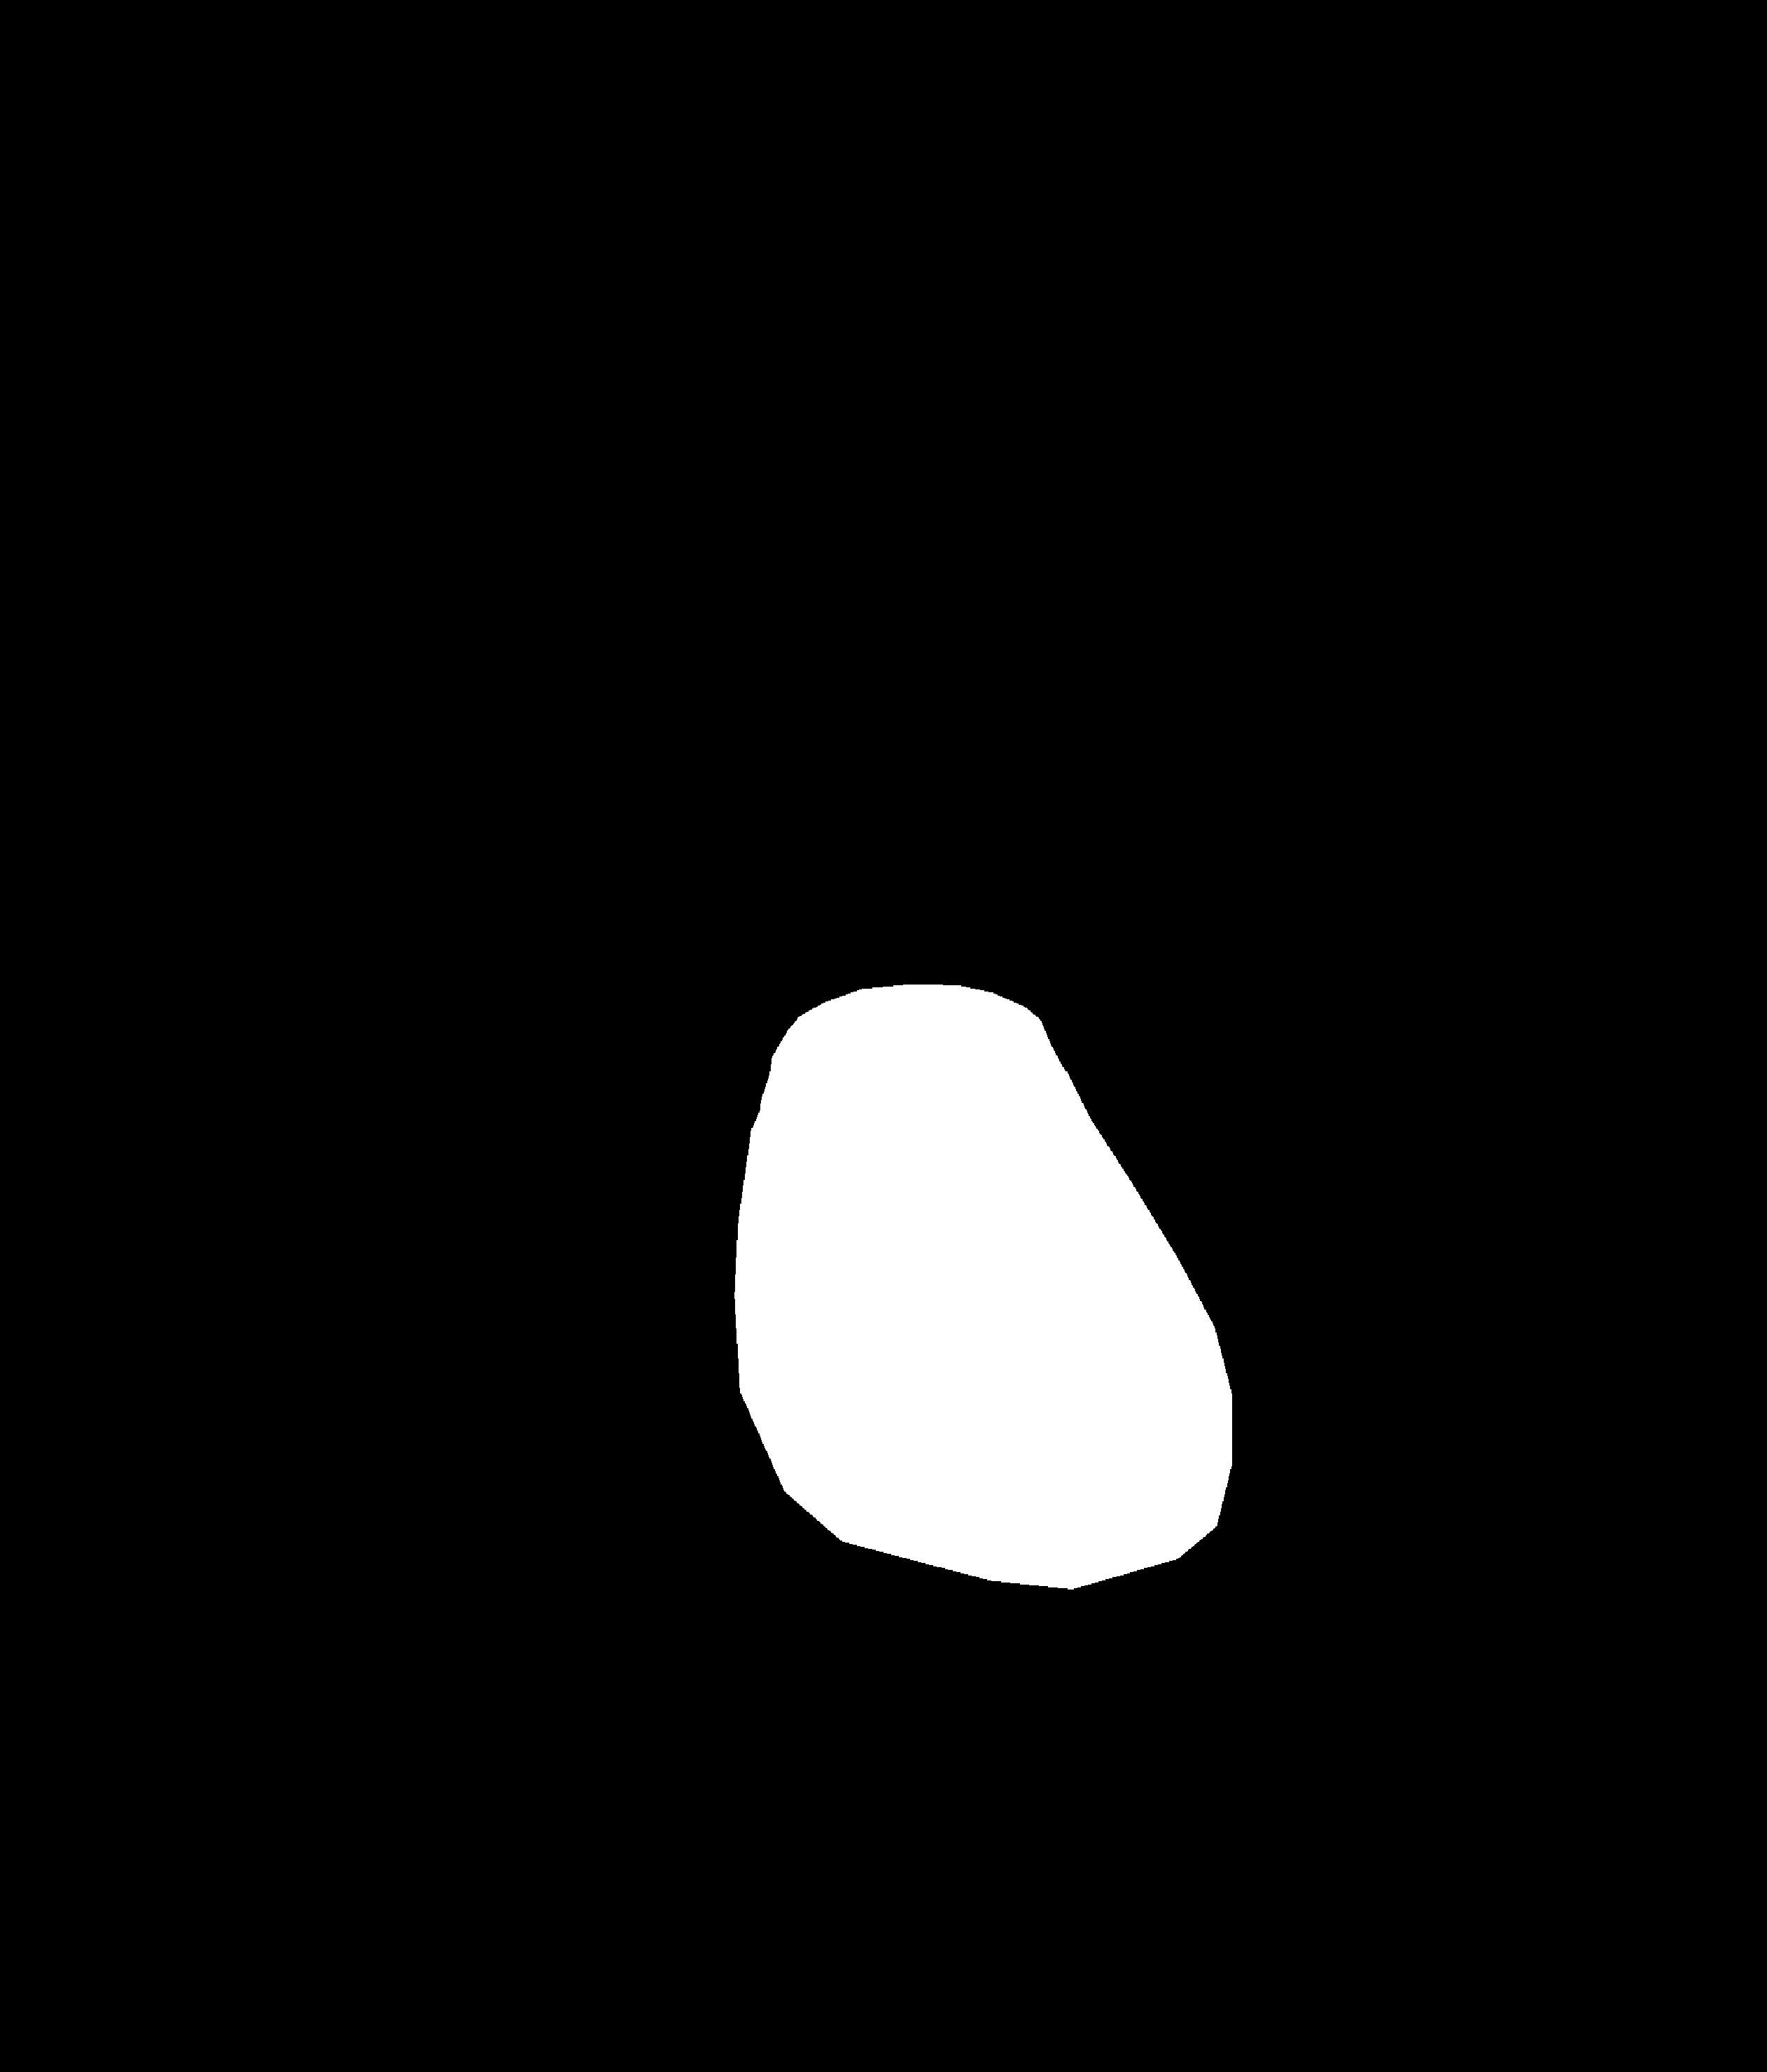heart: (736, 1059, 1231, 1592)
left_lung: (233, 351, 812, 1811)
right_lung: (997, 386, 1562, 1849)
